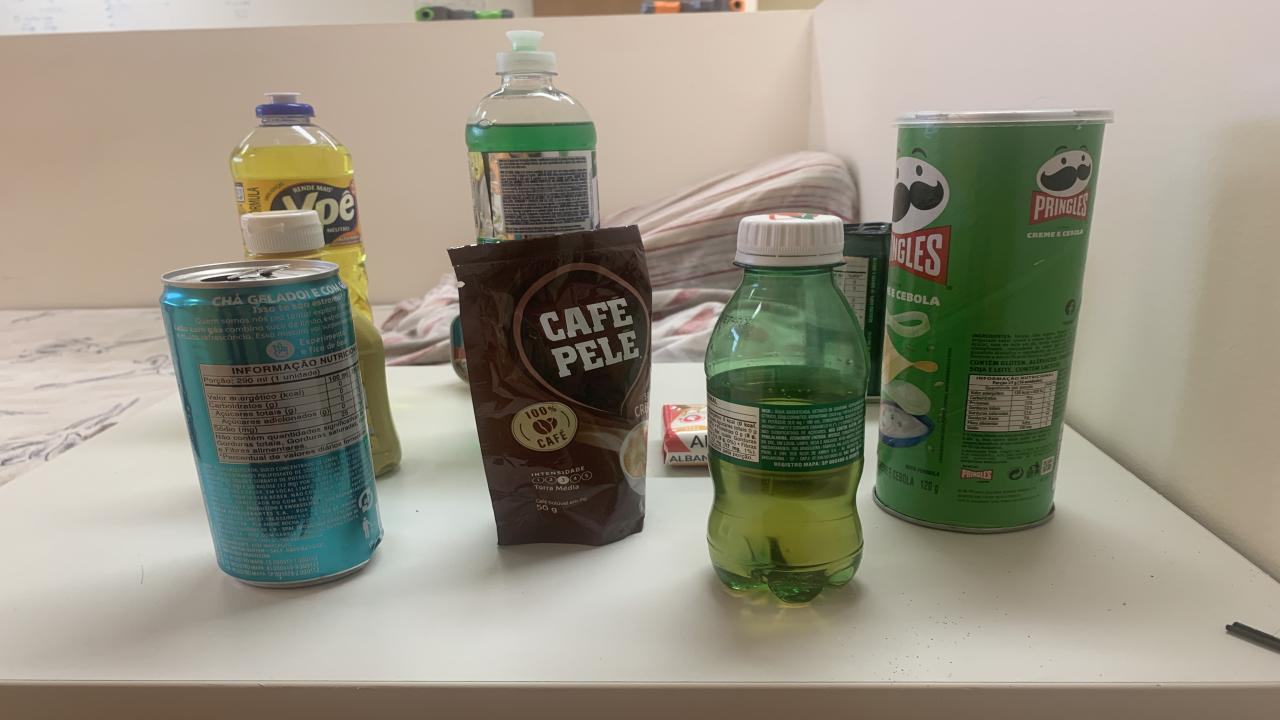Coffee-Pantry_Items: (450, 225, 652, 546)
Detergent-Cleanup_Items: (230, 94, 370, 317), (465, 32, 600, 244)
Guarana-Drinks: (705, 214, 868, 604)
Guarana_Can-Drinks: (835, 223, 890, 398)
Mustard-Pantry_Items: (352, 306, 400, 474), (240, 210, 325, 261)
Pringles-Snacks: (875, 111, 1112, 532)
Soap-Cleanup_Items: (662, 405, 708, 467)
Tea-Drinks: (160, 261, 382, 585)
